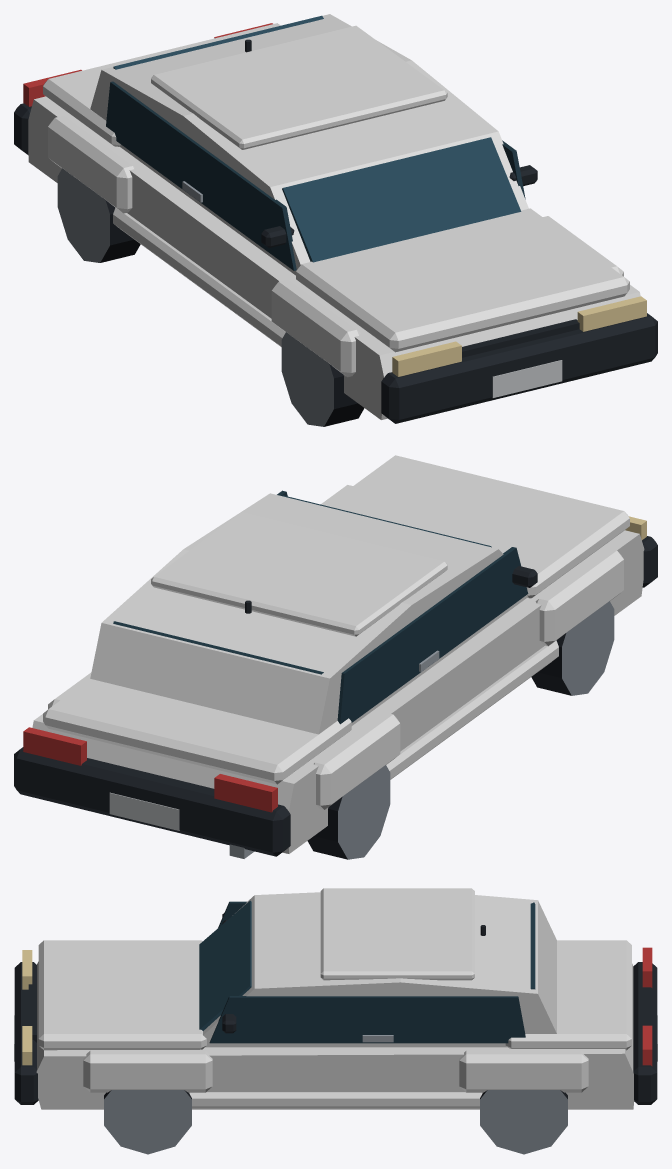
Rendered from car_sedan_lod0.glb.
3 renders of one model, top to bottom at view 1: azimuth 30°, elevation 25°; view 2: azimuth 150°, elevation 25°; view 3: azimuth 270°, elevation 25°, orthographic. The views are drawn at different scales.
Visible parts, largest first — view 1: paint, trim; view 2: paint, trim; view 3: paint, trim.
Boxes of the visible parts, x1,y1,x2,y2 form: paint: [28, 14, 640, 419]; trim: [14, 15, 657, 426]; paint: [32, 455, 644, 853]; trim: [14, 490, 657, 859]; paint: [36, 888, 634, 1109]; trim: [14, 900, 657, 1154].
Size of the model in its own units: 1.96 by 1.35 by 4.59.
